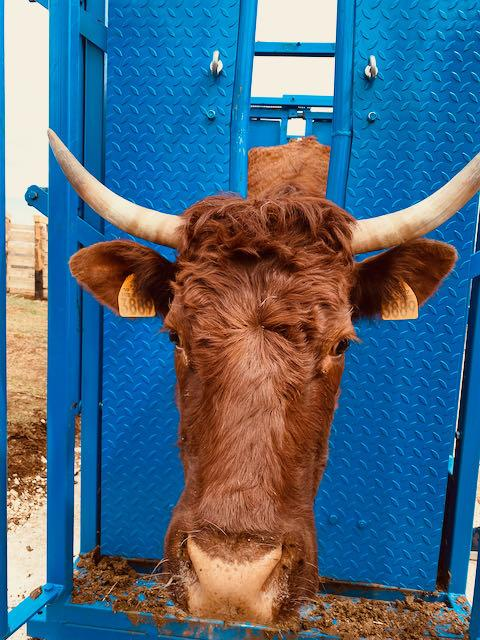muzzles: (155, 524, 314, 622)
